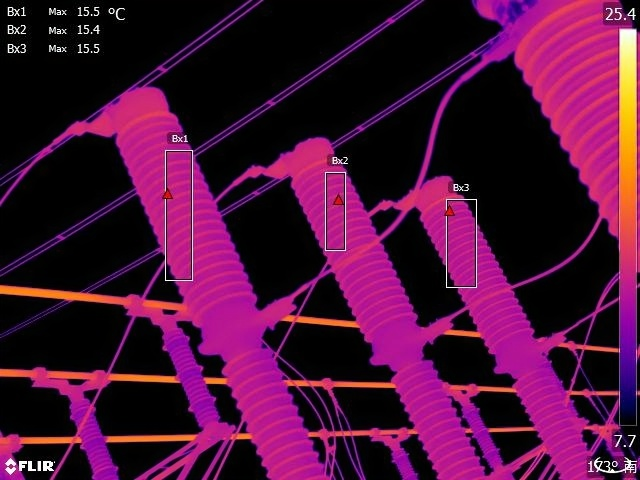circuit breaker: (111, 69, 334, 480), (272, 116, 484, 480), (406, 153, 603, 480)
clamp: (308, 417, 337, 455), (313, 369, 337, 404)
current transformer: (466, 1, 620, 244)
post insulator: (156, 320, 227, 433), (62, 392, 129, 480), (458, 399, 503, 467), (387, 438, 424, 480)
